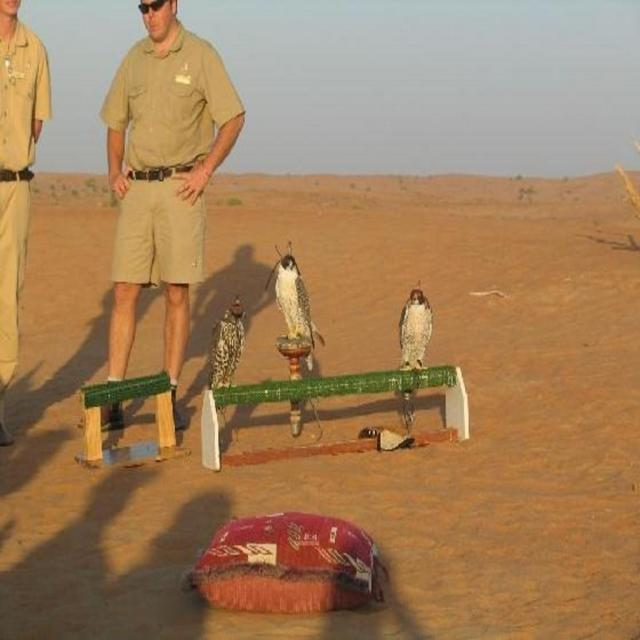nomask: (140, 0, 171, 39), (0, 0, 20, 14)
